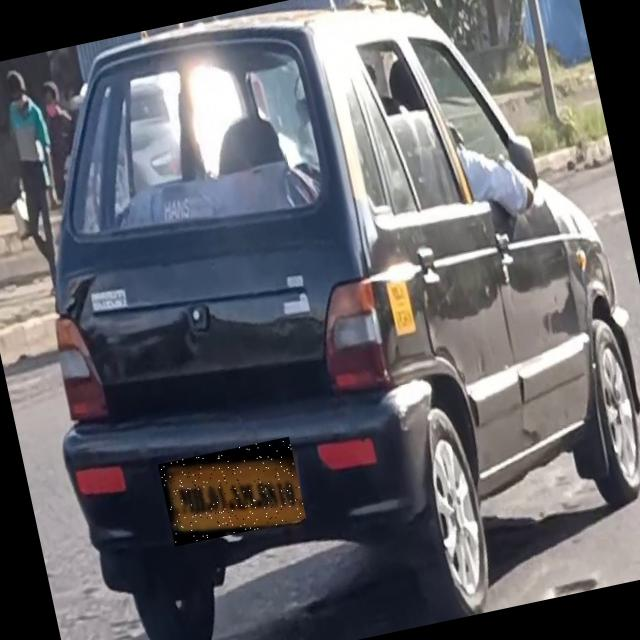Plate: (158, 437, 307, 547)
